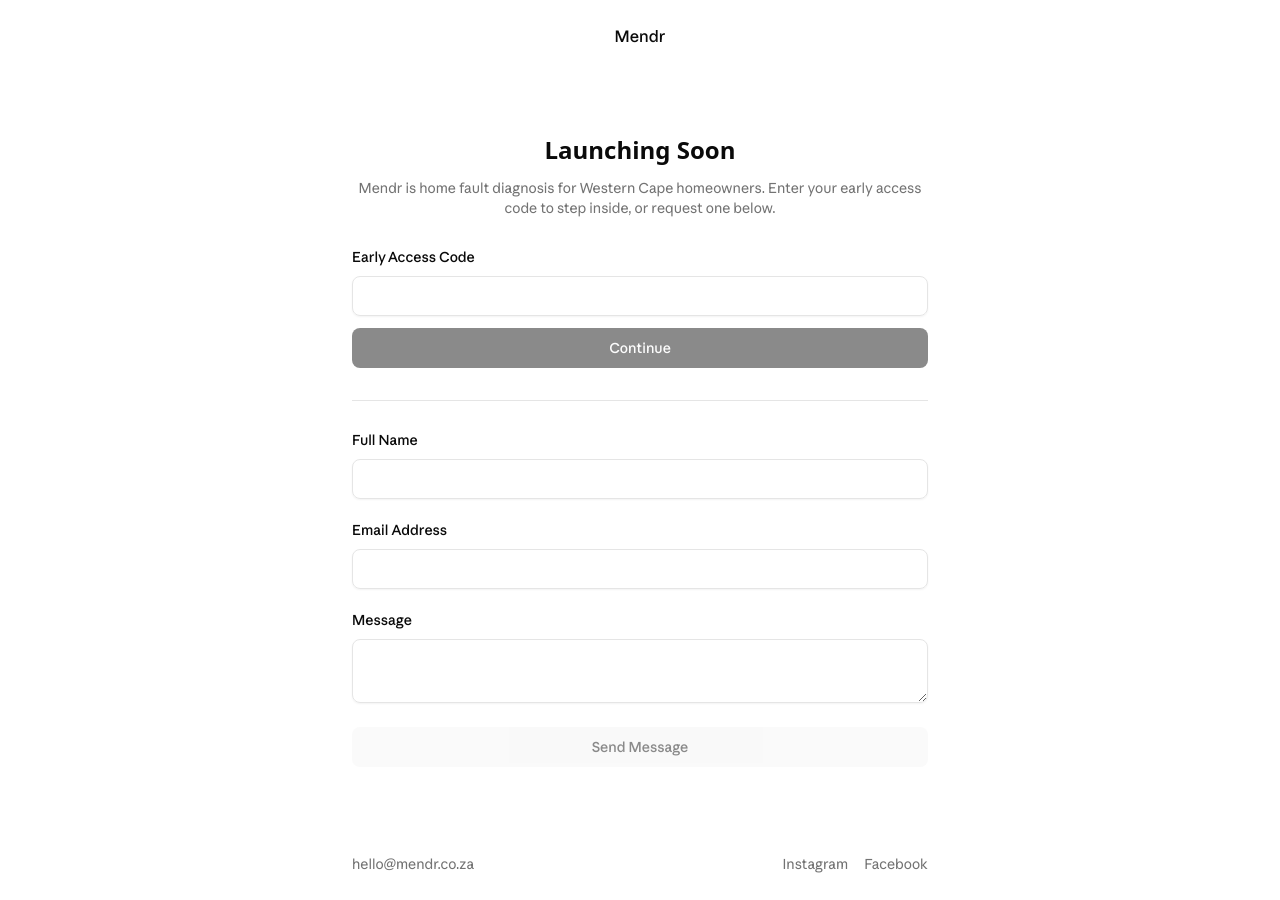
Test case: ComingSoonClient — contact form › renders the post-submit success state
This screenshot has width=1280, height=900.
Type "Ada" into the field labelled "Full Name" at point(640, 478), box [352, 458, 928, 498]
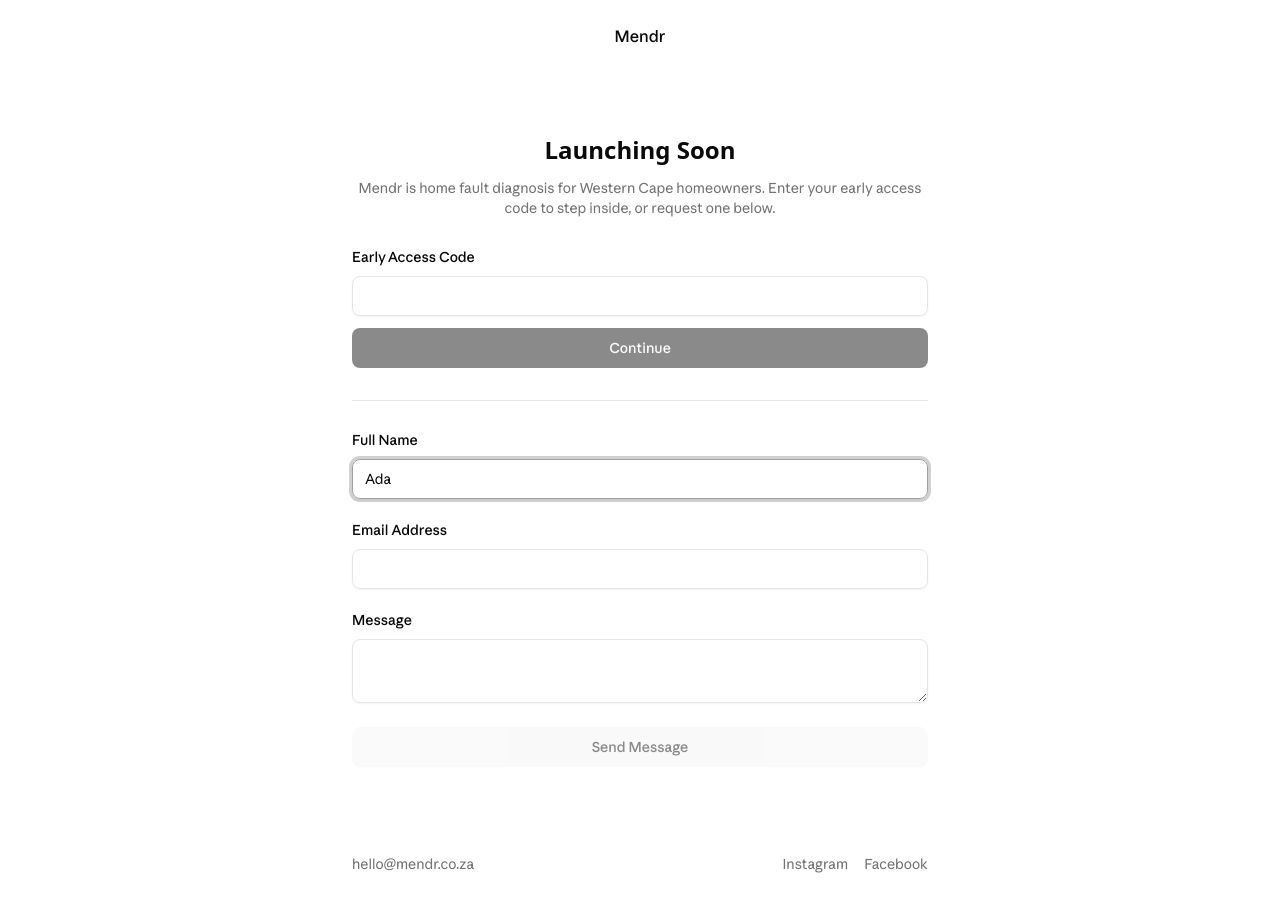
Type "ada@example.com" into the field labelled "Email Address" at point(640, 568), box [352, 548, 928, 588]
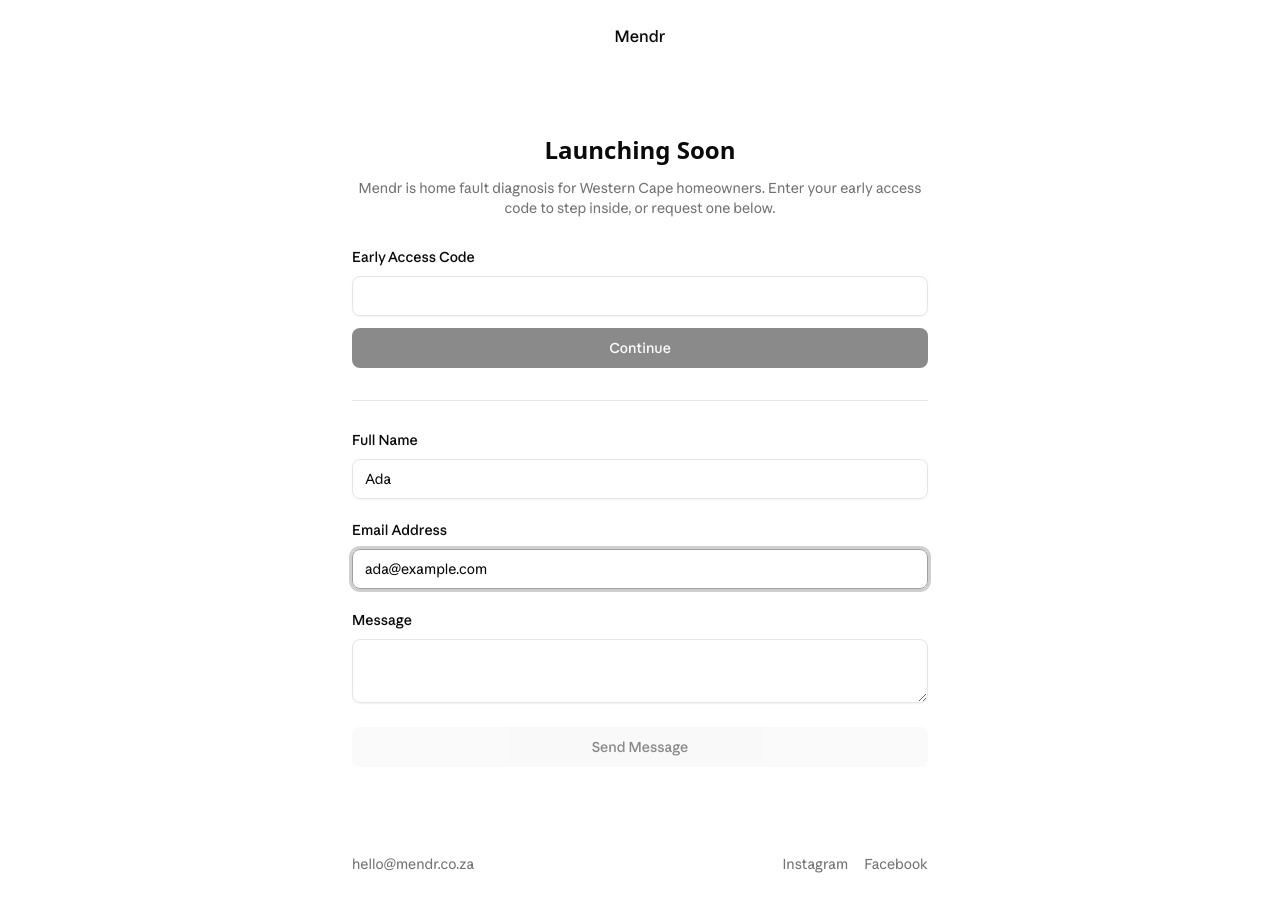
Type "Hi" into the text box labelled "Message" at point(640, 670), box [352, 638, 928, 702]
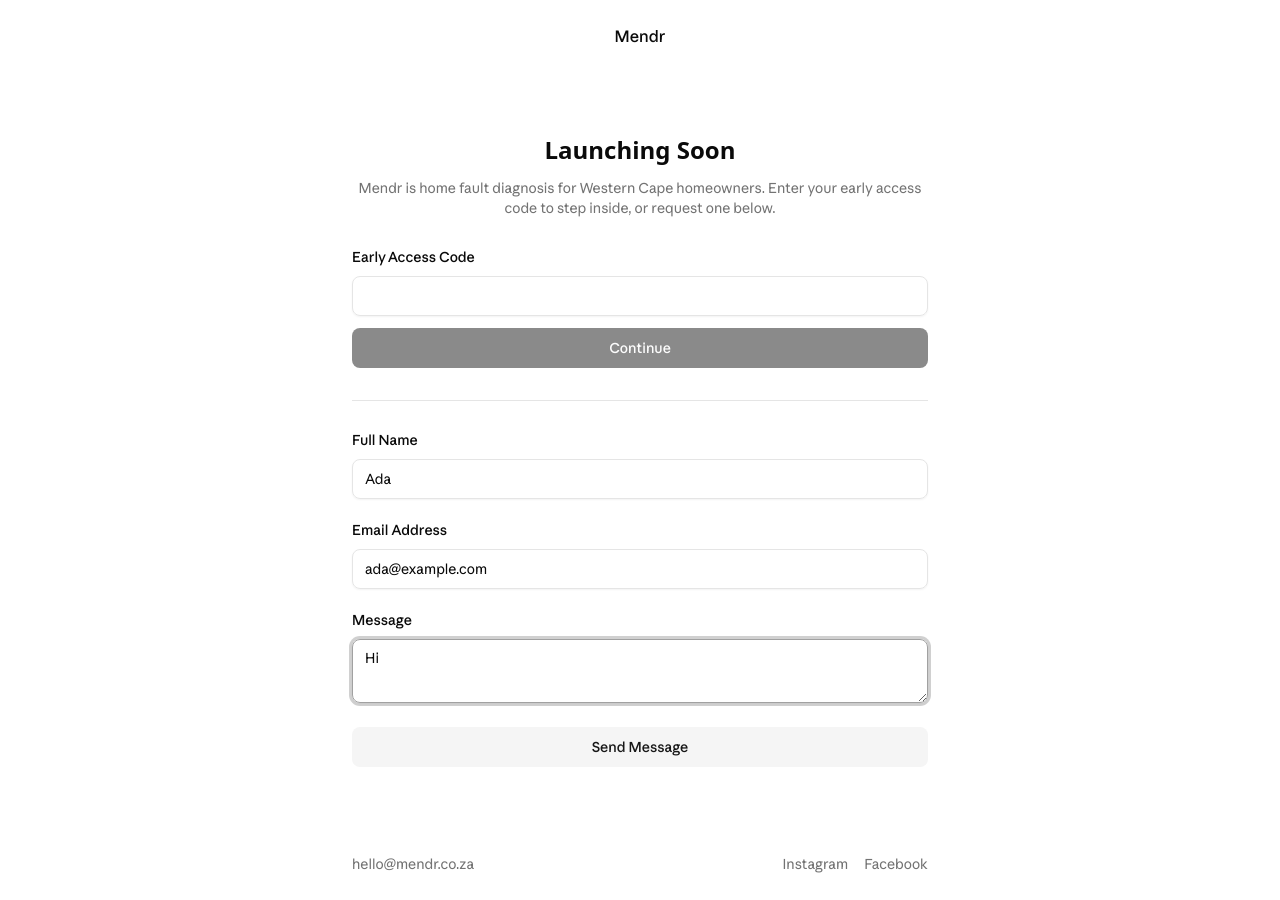
Click the button "Send Message" at point(640, 746), box [352, 726, 928, 766]
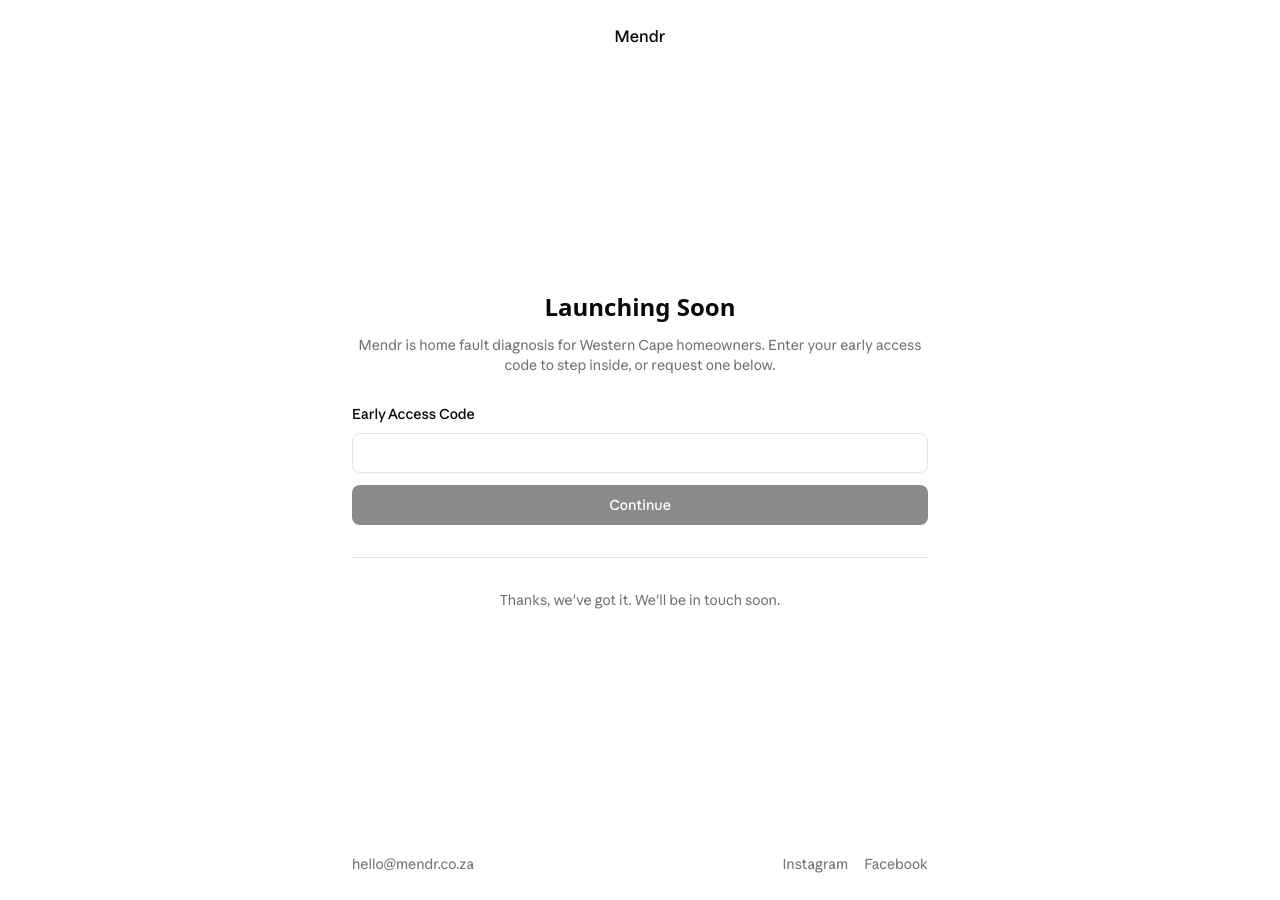
Expected: the button "Send Message" is gone
